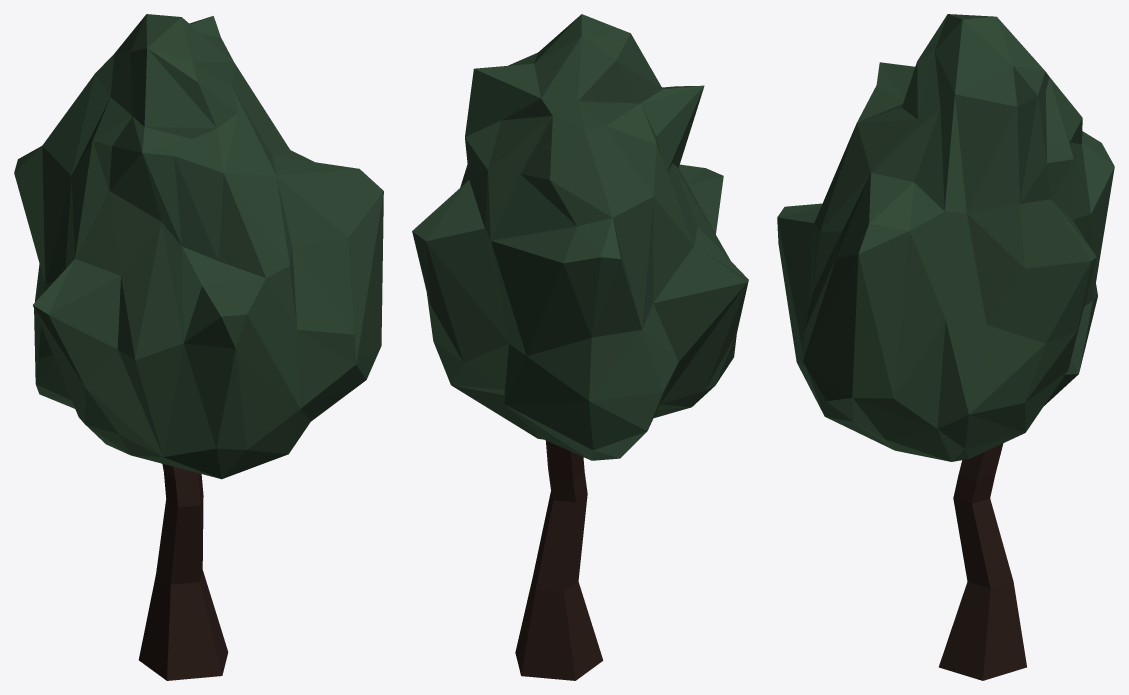
The model's file is SM_Env_Tree_02.fbx.
The picture shows the model from 3 angles, left to right: view 1: azimuth 30°, elevation 25°; view 2: azimuth 150°, elevation 25°; view 3: azimuth 270°, elevation 25°; orthographic projection. The views are drawn at different scales.
Parts seen in each view (by area): view 1: SM_Tree_02; view 2: SM_Tree_02; view 3: SM_Tree_02.
Boxes of the visible parts, bbox=[...] form: SM_Tree_02: bbox=[14, 14, 383, 680]; SM_Tree_02: bbox=[412, 14, 748, 680]; SM_Tree_02: bbox=[777, 14, 1114, 680].
Size of the model in its own units: 3.06 by 6.25 by 3.01.
